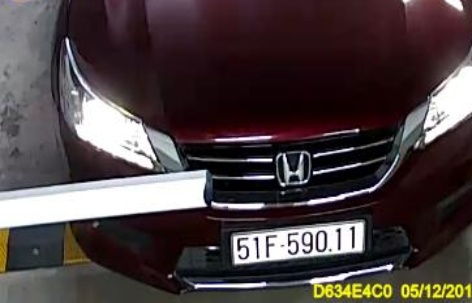plate: (229, 221, 373, 267)
